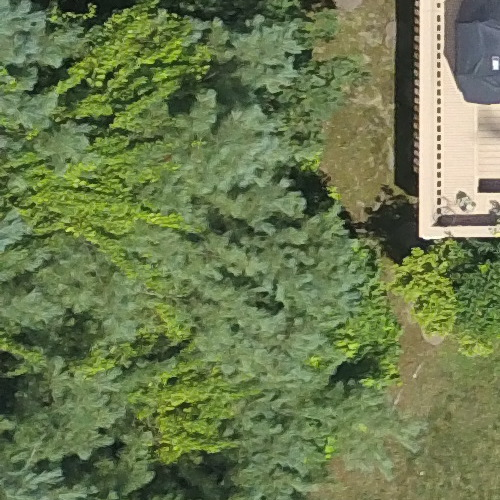porch: (388, 1, 500, 257)
